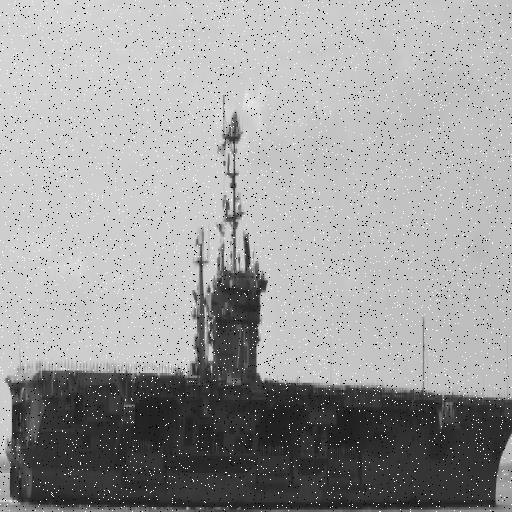Portanaves: (4, 101, 512, 512)
